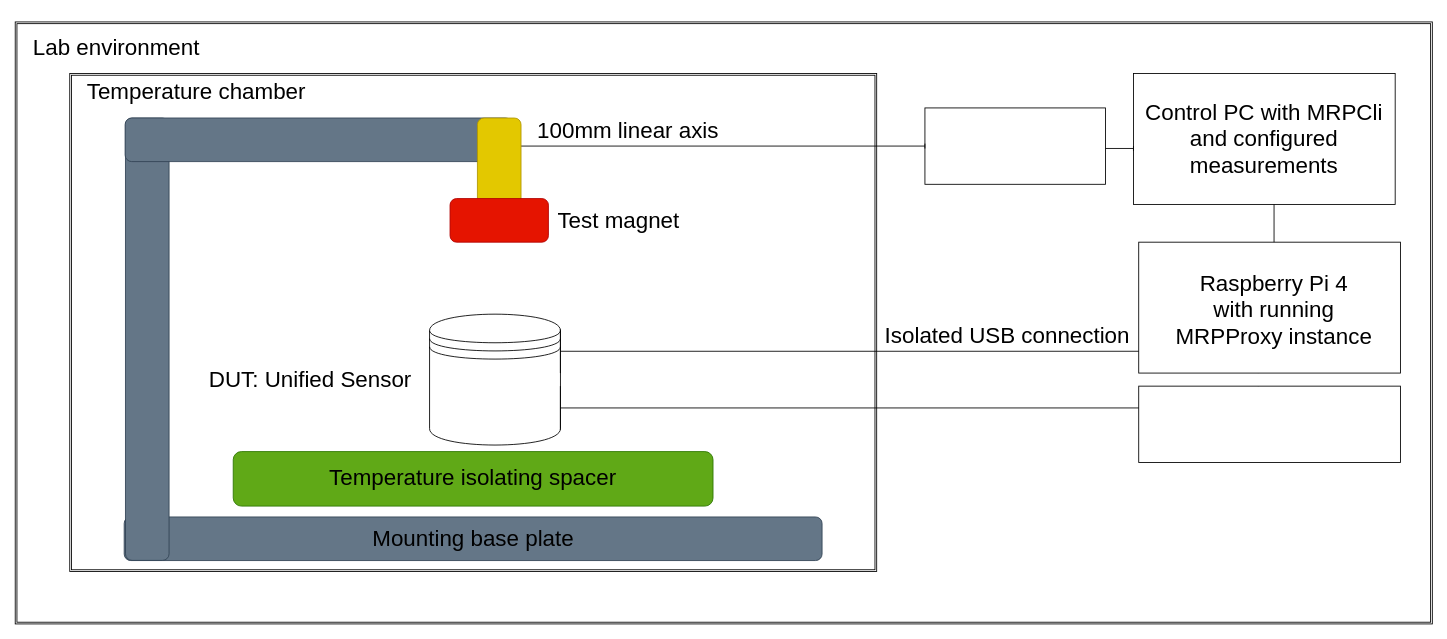
Image size: 1447x639. Some labels were removed from this diagram. Each missing label, with the centre of its shape:
"5V Battery based power supply" belongs at point (1269, 424).
"Linear axis motor controller" belongs at point (1015, 145).
